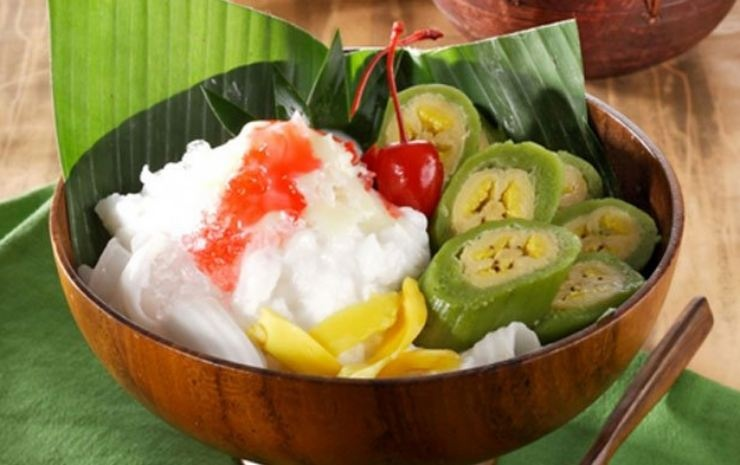pisang_ijo: (417, 204, 581, 323)
